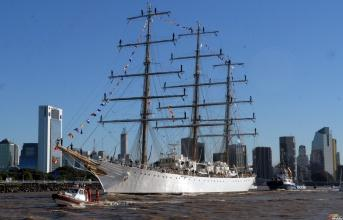fanchuan: (54, 6, 255, 194)
otherboat: (268, 157, 314, 193), (44, 184, 115, 206)
